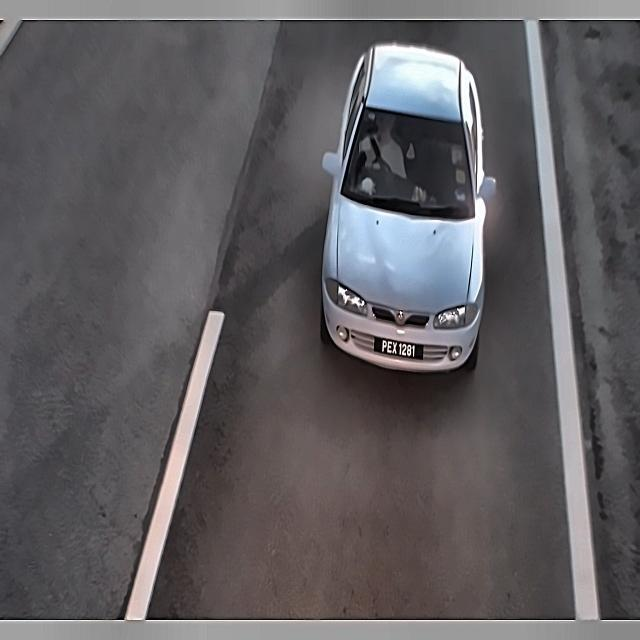car: (372, 333, 428, 364)
